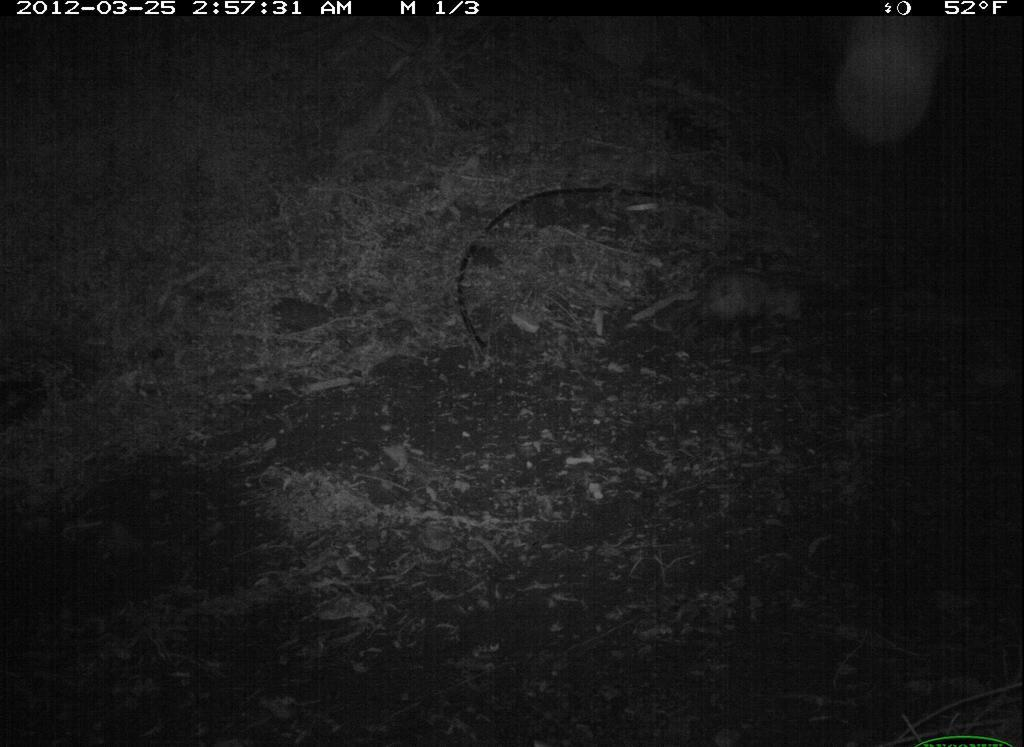opossum: (670, 240, 830, 359)
